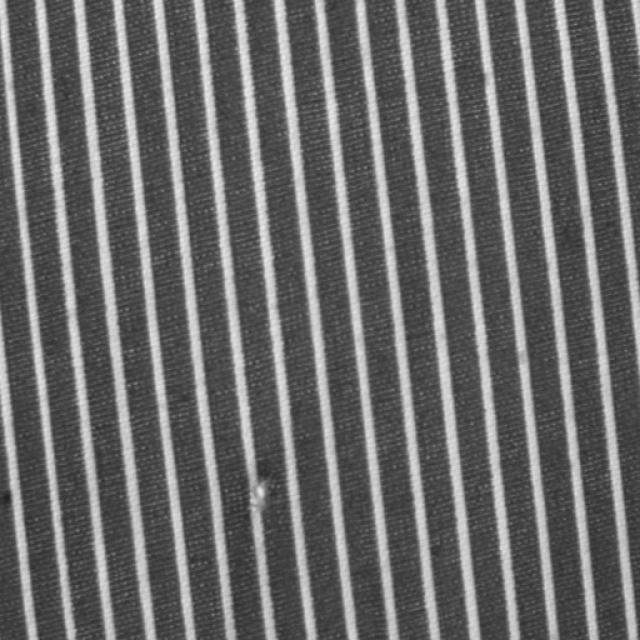Hole-Defect: (248, 470, 279, 512)
